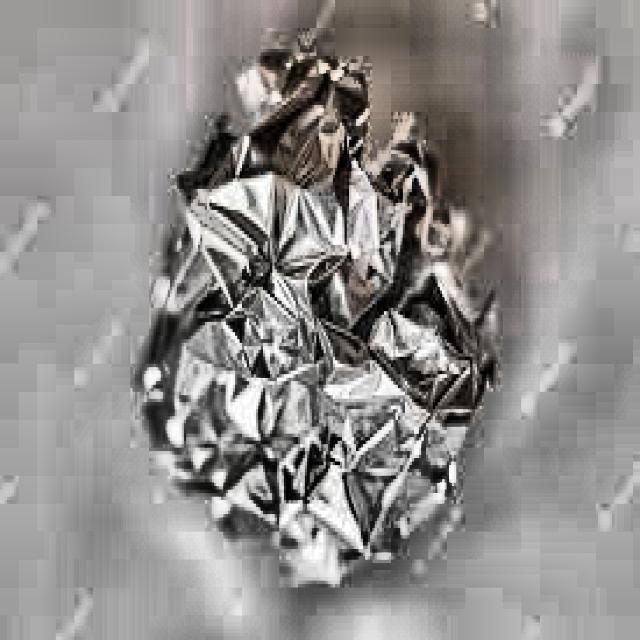Foil: (129, 29, 502, 591)
